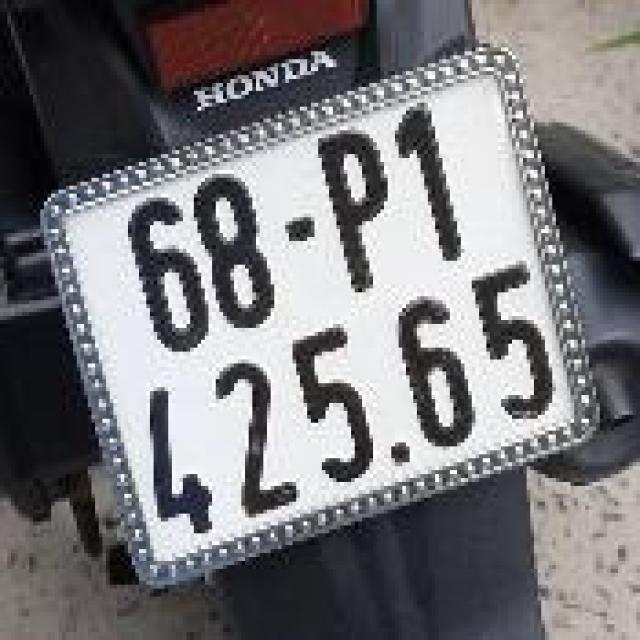1: (381, 88, 508, 287)
2: (190, 343, 324, 531)
4: (123, 365, 237, 565)
5: (446, 244, 571, 446), (270, 315, 392, 506)
6: (104, 180, 231, 373), (377, 279, 499, 462)
8: (177, 159, 302, 352)
P: (302, 111, 428, 311)
